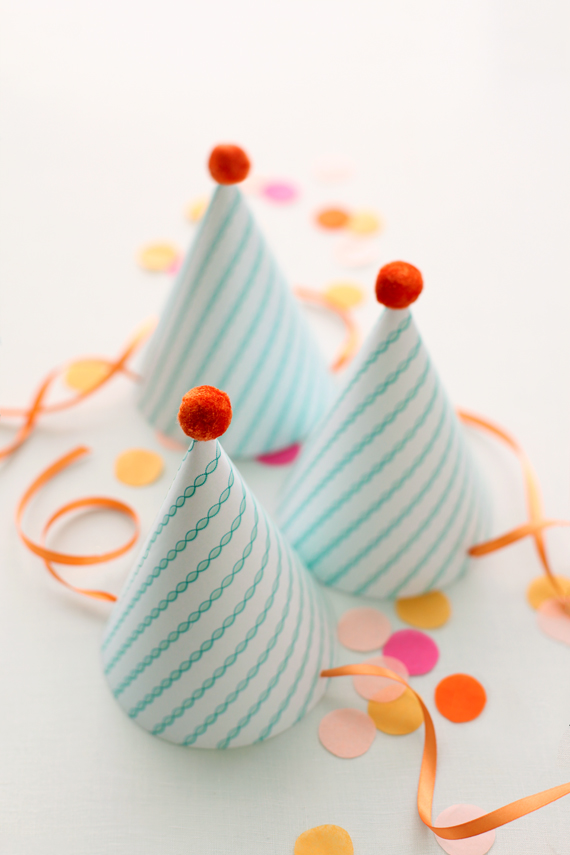cone: (100, 436, 337, 750), (269, 307, 494, 599), (135, 185, 332, 461)
sphere: (178, 385, 231, 441), (375, 261, 424, 310), (208, 144, 251, 186)
